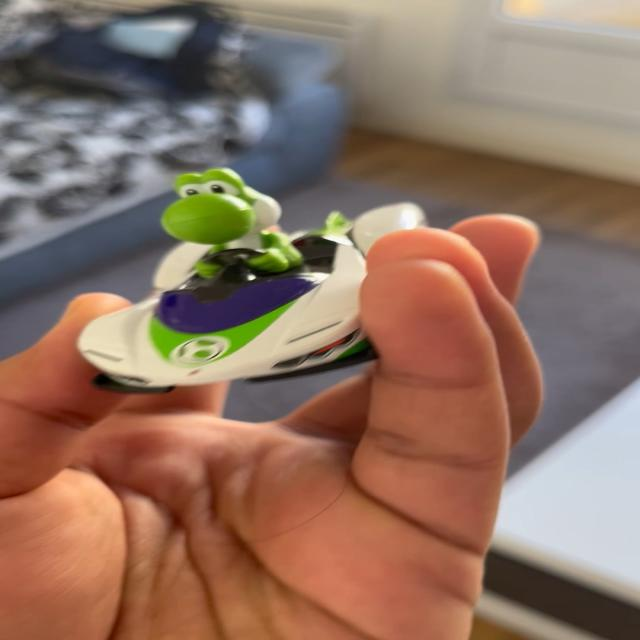yoshi: (60, 148, 419, 404)
